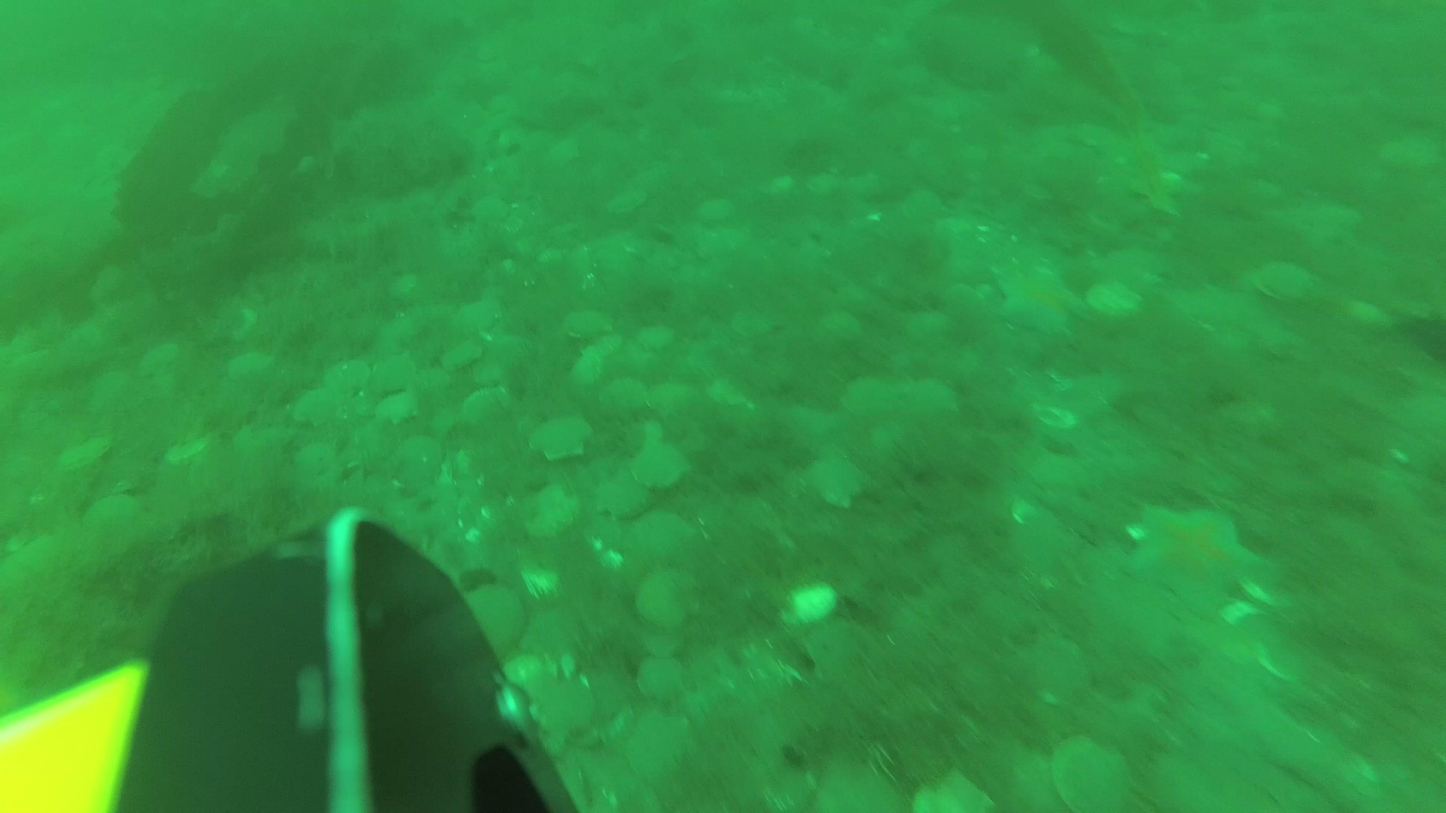holothurian: (1117, 495, 1273, 618), (995, 263, 1086, 340)
scallop: (1054, 730, 1132, 813), (809, 756, 906, 813), (1025, 634, 1099, 708), (458, 582, 526, 661), (625, 715, 697, 781), (633, 568, 700, 633), (590, 469, 668, 523), (910, 766, 994, 813), (802, 456, 868, 513), (771, 577, 845, 626), (532, 679, 594, 735), (1251, 254, 1315, 308), (632, 507, 696, 559), (524, 481, 580, 539), (529, 415, 594, 462), (1376, 132, 1443, 175), (845, 378, 905, 424), (631, 443, 692, 487), (82, 492, 143, 535), (904, 378, 963, 422), (1087, 280, 1147, 321), (52, 436, 117, 473), (636, 654, 687, 701), (88, 369, 136, 417), (233, 417, 293, 455), (598, 376, 651, 416), (460, 385, 514, 424), (728, 303, 783, 341), (371, 352, 420, 392), (815, 308, 865, 347), (648, 381, 702, 417), (322, 358, 371, 396), (694, 225, 747, 259), (638, 623, 690, 657), (561, 308, 616, 340), (399, 434, 446, 471), (136, 340, 181, 377), (905, 306, 950, 343), (225, 350, 276, 382), (292, 391, 337, 427), (901, 185, 941, 225), (163, 434, 215, 464), (295, 441, 339, 475), (438, 340, 484, 372), (376, 393, 419, 426), (471, 195, 515, 227), (636, 320, 674, 355), (601, 190, 652, 216), (570, 352, 605, 388), (710, 376, 749, 408), (800, 168, 841, 197), (578, 332, 625, 356), (695, 196, 736, 223), (765, 171, 796, 197), (388, 274, 419, 299)
